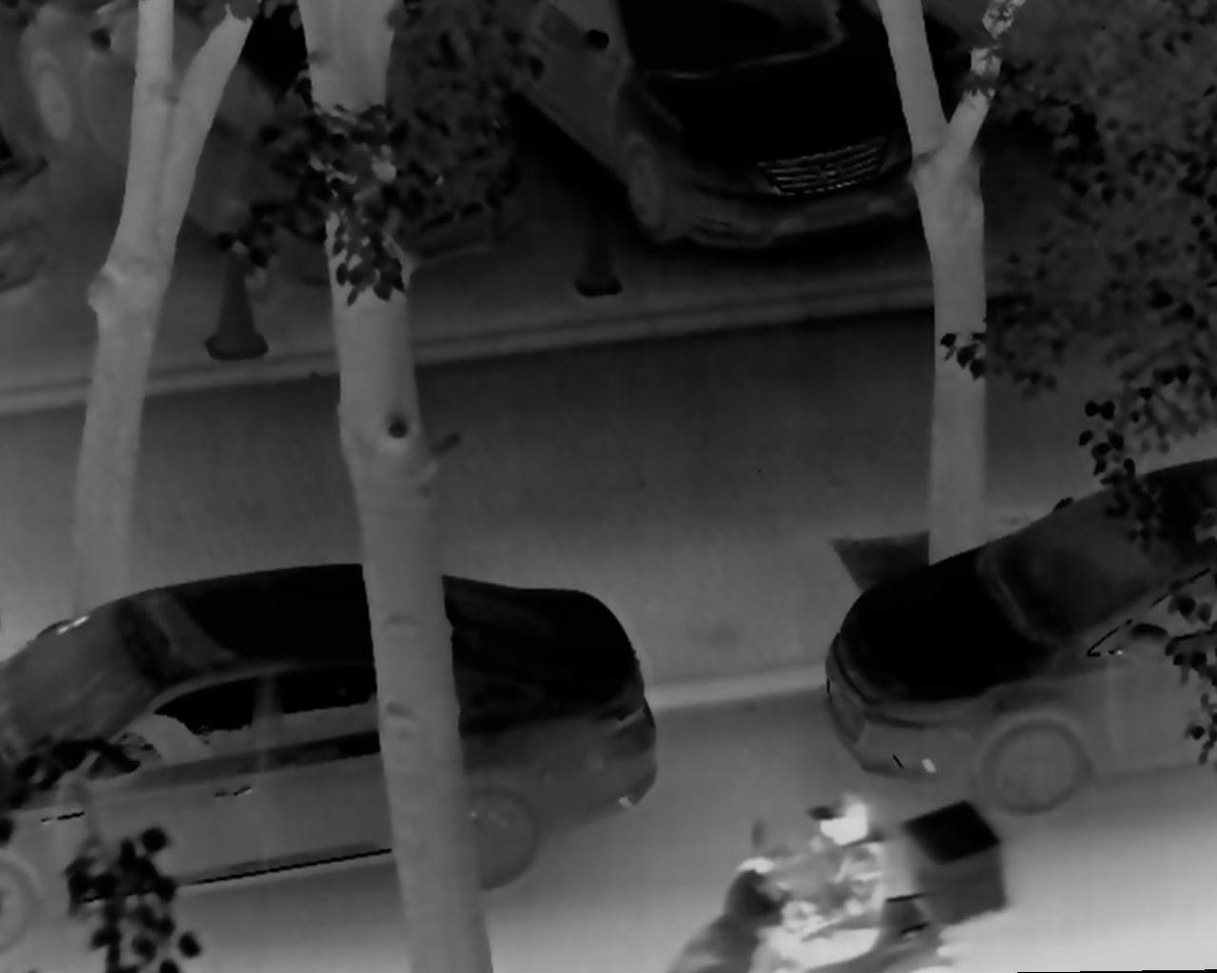person: (733, 791, 894, 973)
